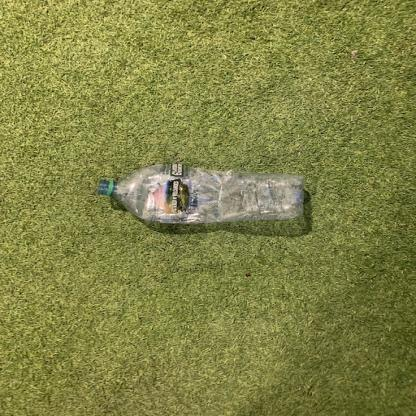trash: (96, 164, 308, 226)
